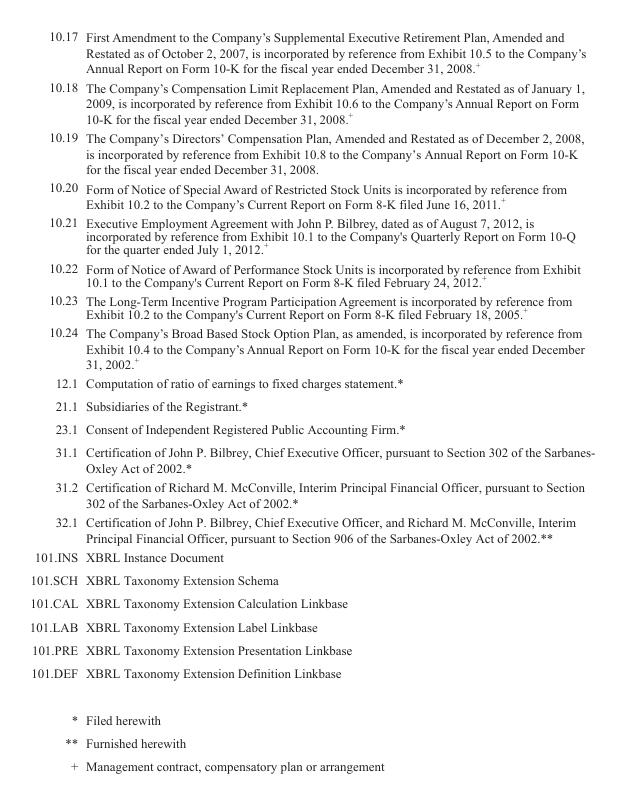table: (28, 28, 594, 773)
table column: (81, 28, 594, 773), (28, 28, 81, 773)
table row: (28, 322, 594, 373), (28, 77, 594, 127), (28, 127, 594, 177), (28, 28, 594, 77), (28, 212, 594, 258), (28, 440, 594, 477), (28, 177, 594, 212), (28, 477, 594, 512), (28, 661, 594, 696), (28, 696, 594, 731), (28, 512, 594, 546), (28, 258, 594, 290), (28, 290, 594, 322), (28, 393, 594, 417), (28, 637, 594, 661), (28, 417, 594, 440), (28, 568, 594, 591), (28, 591, 594, 614), (28, 614, 594, 637), (28, 731, 594, 754), (28, 546, 594, 568), (28, 373, 594, 393), (28, 754, 594, 773)
